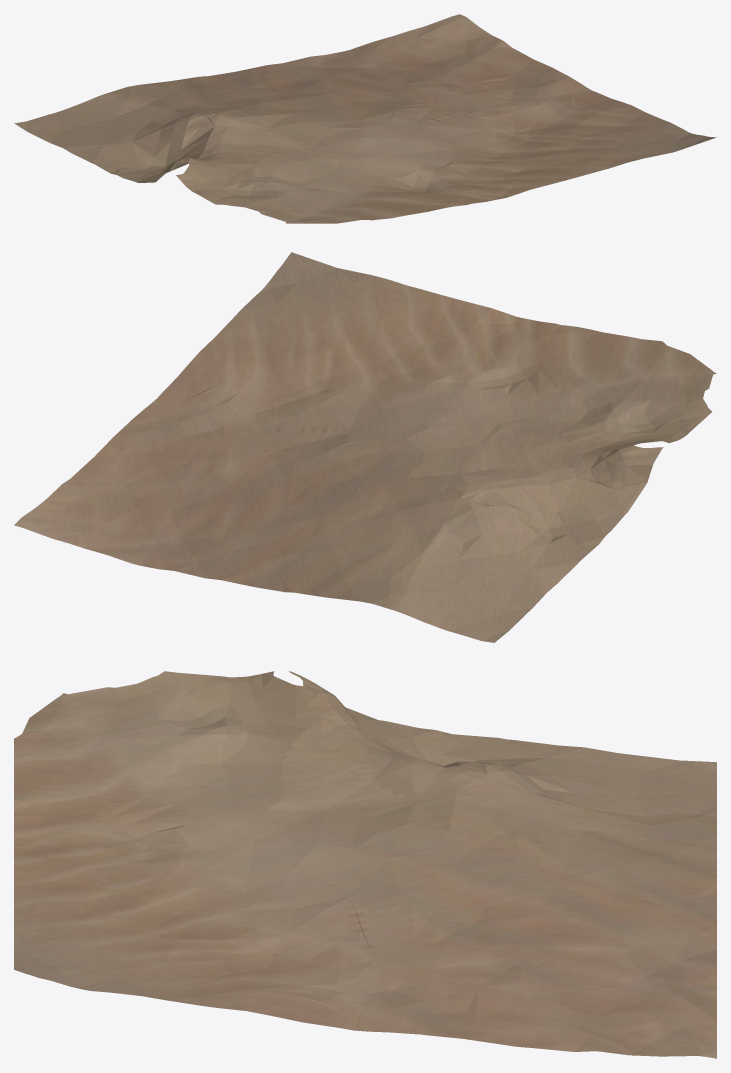
3 views of the same model, one above another, from view 1: azimuth 30°, elevation 25°; view 2: azimuth 150°, elevation 25°; view 3: azimuth 270°, elevation 25° (orthographic). The views are drawn at different scales.
Bounding box in the file's own units: 1.04 × 0.1684 × 1.04.
2 materials, 2 textured.
